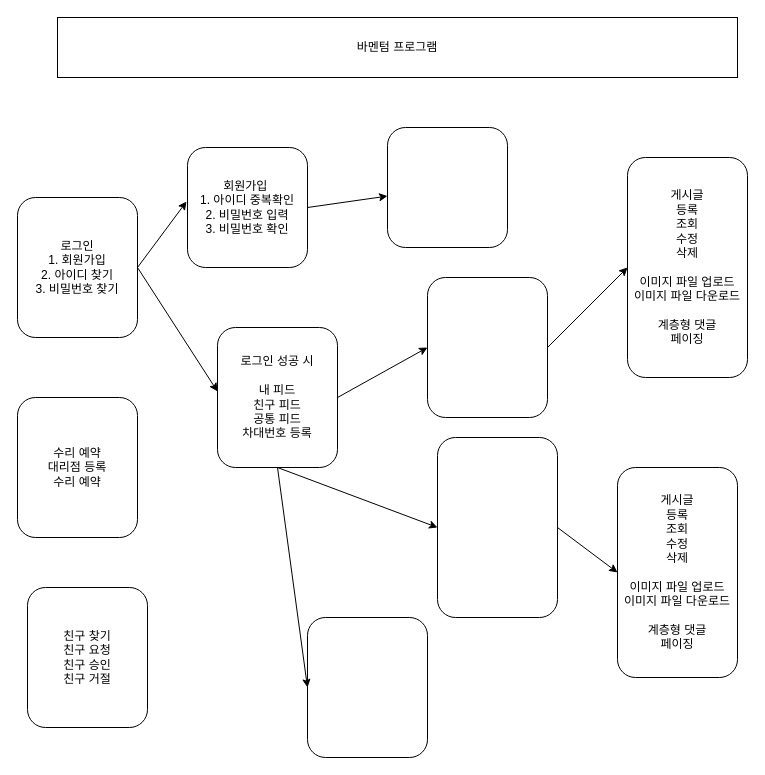
Image size: 765x775. Some labels were removed from this diagram. Here are the shapes that lost their labels. From the top down, the box of each, then its label:
(386, 126, 508, 248): 사용자 인증 1. 이메일인증 ? 핸드폰 문자인증 ? 카카오 인증 ? 구글 인증 ? 네이버 인증
(426, 276, 548, 418): 공통 피드 등록 조회 수정 삭제 태그 검색 기능 제목 검색 기능.
(436, 436, 558, 618): 내 피드 등록 조회 수정 삭제 태그 검색 기능 제목 검색 기능.
(306, 616, 428, 758): 차대번호 등록 조회 수정 삭제
